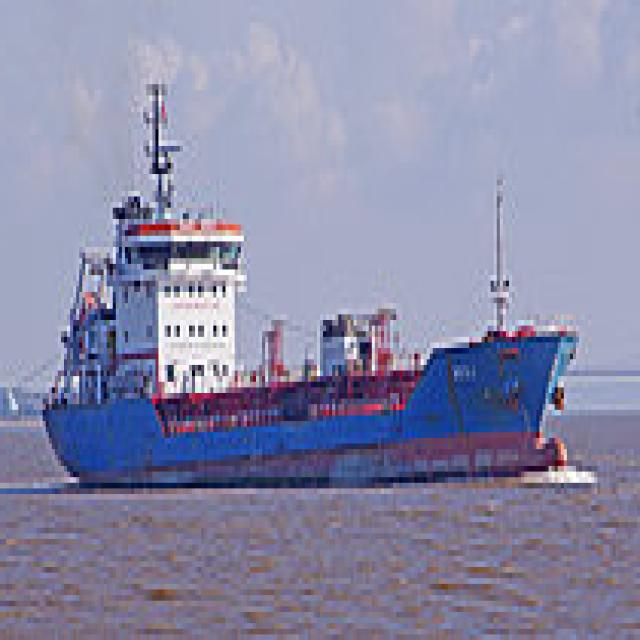Tanker: (43, 73, 585, 477)
